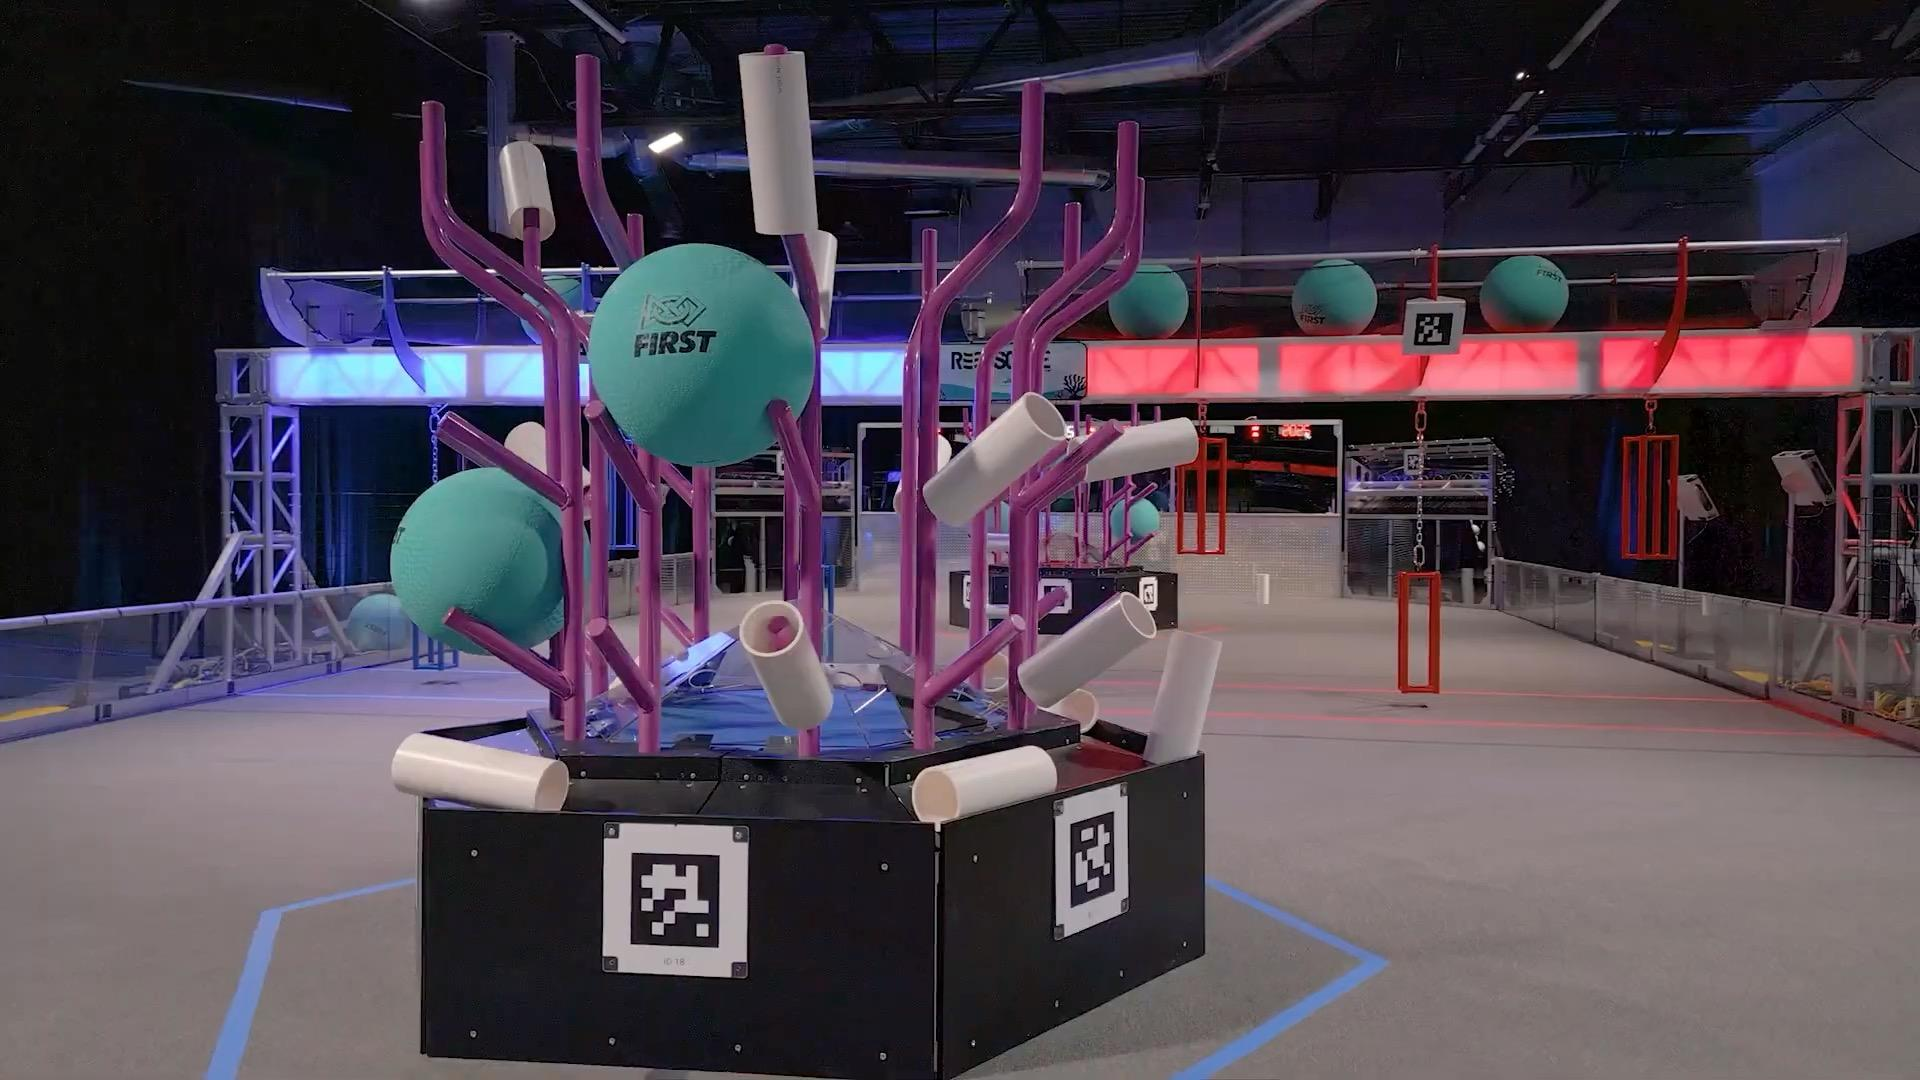ALGAE: (585, 240, 815, 465), (388, 464, 566, 655), (1478, 253, 1569, 334), (1290, 257, 1377, 336), (1106, 262, 1188, 338), (345, 591, 410, 651), (1109, 496, 1159, 547)
CORAL: (920, 390, 1067, 526), (1015, 589, 1156, 708), (737, 45, 818, 236), (389, 729, 568, 812), (737, 597, 833, 731), (910, 742, 1058, 822), (1142, 626, 1222, 764), (1081, 415, 1199, 481), (498, 142, 556, 243)
